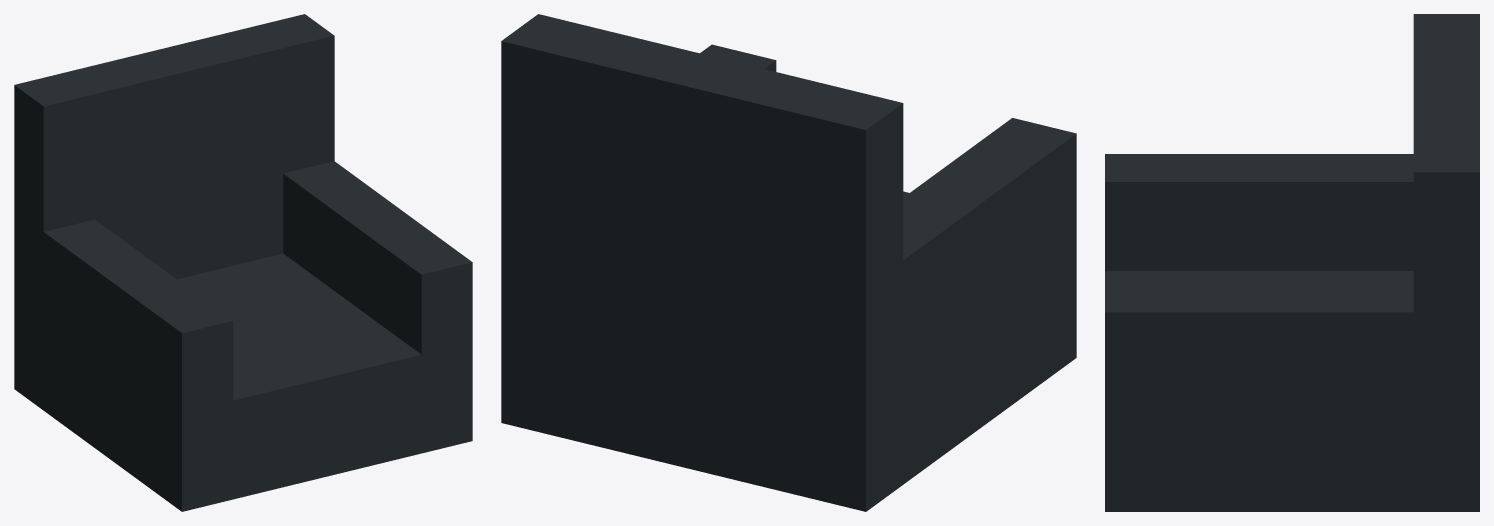
Rendered from armchair.fbx.
3 renders of one model, left to right at view 1: azimuth 30°, elevation 25°; view 2: azimuth 150°, elevation 25°; view 3: azimuth 270°, elevation 25°, orthographic. The views are drawn at different scales.
Visible parts, largest first — view 1: Cube; view 2: Cube; view 3: Cube.
Boxes of the visible parts, x1,y1,x2,y2 form: Cube: [14, 14, 472, 511]; Cube: [501, 14, 1076, 511]; Cube: [1105, 14, 1479, 511].
Bounding box in the file's own units: 400 × 400 × 400.
